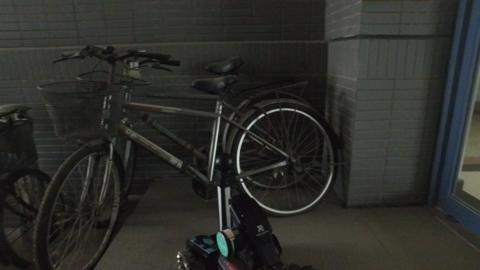bike: (29, 36, 341, 266)
chariot: (171, 147, 291, 270)
